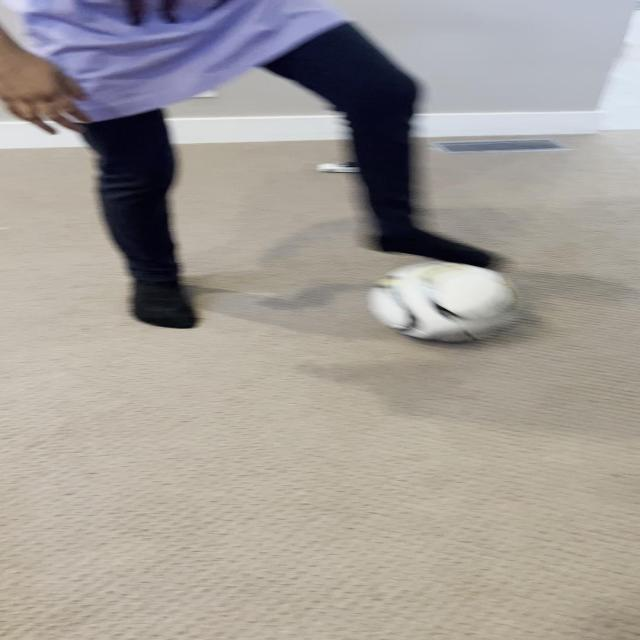Soccer Ball: (372, 260, 523, 343)
